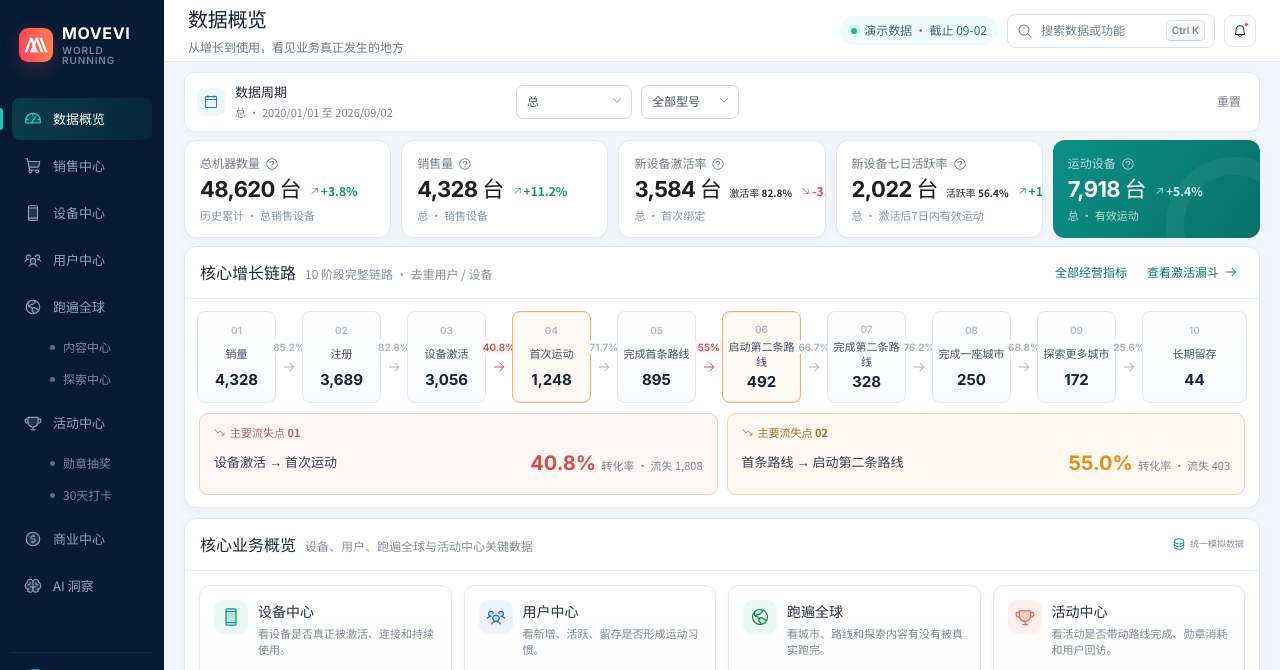
Test: MOVEVI dashboard › exposes the complete executive metric panorama
Click the button "全部经营指标".
click(1091, 272)  # box [1049,262,1133,283]
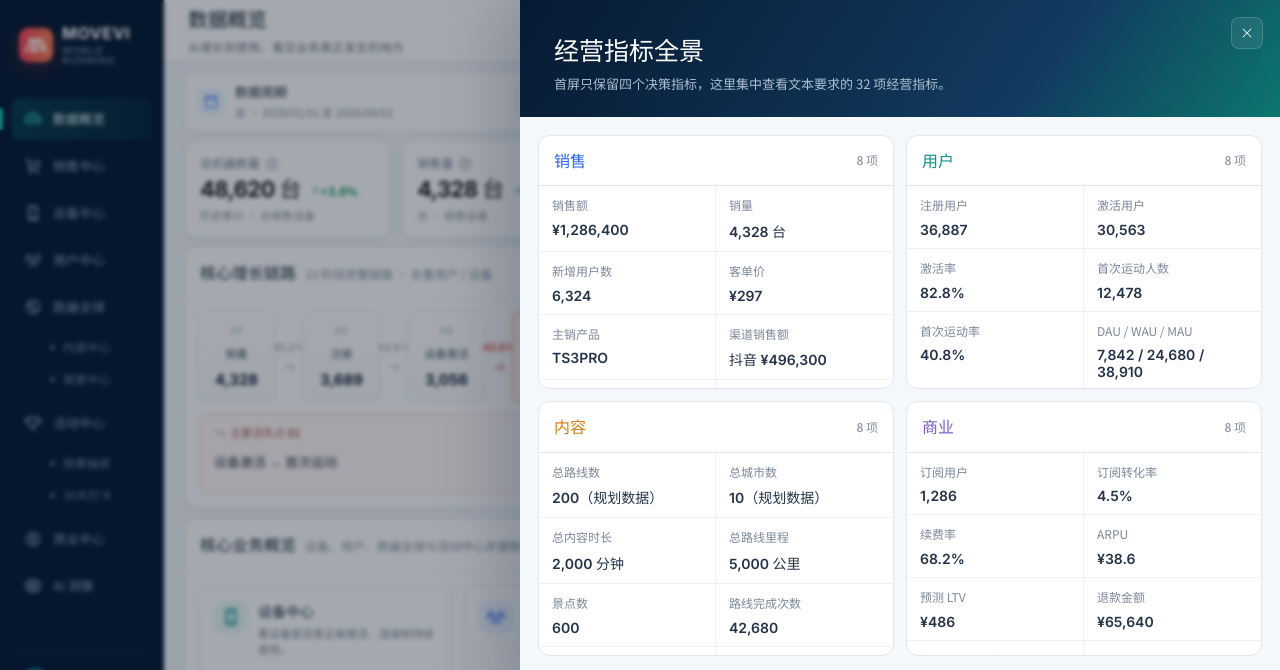
Now the dialog "经营指标全景" shows "32 项经营指标", box [554,74,951,93]
Now the dialog "经营指标全景" shows "总内容时长", box [552,528,612,545]
Now the dialog "经营指标全景" shows "预测 LTV", box [920,588,966,605]
